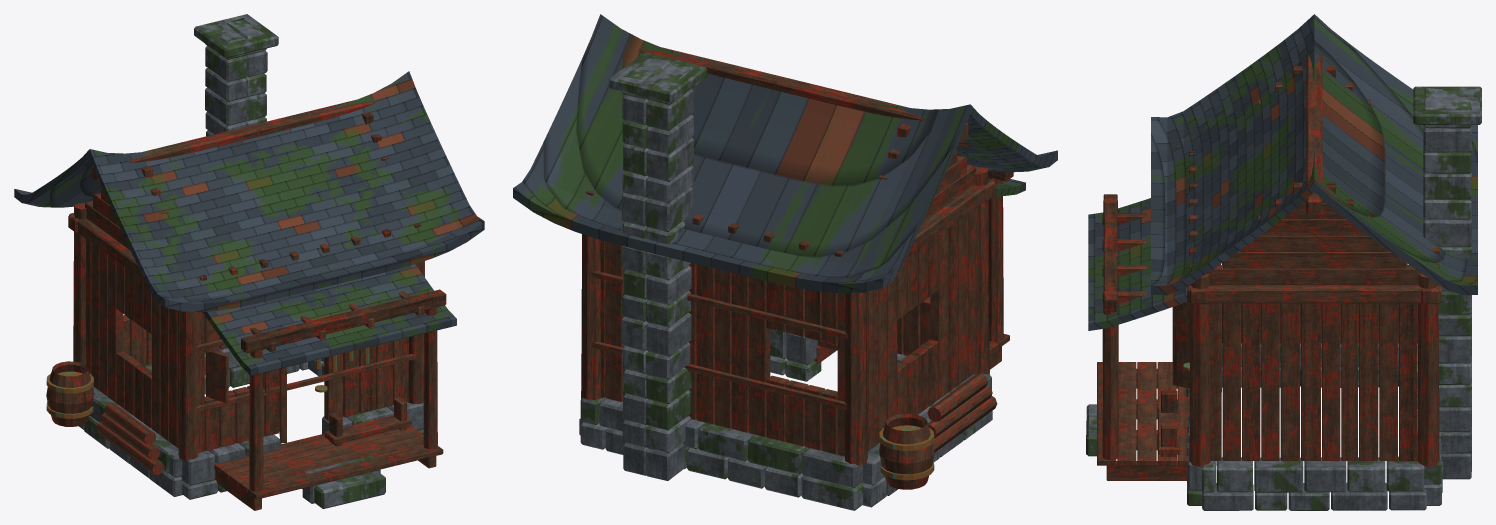
The model's file is Hermit_Hut.glb.
3 renders of one model, left to right at view 1: azimuth 30°, elevation 25°; view 2: azimuth 150°, elevation 25°; view 3: azimuth 270°, elevation 25°, orthographic. The views are drawn at different scales.
Parts seen in each view (by area): view 1: Hermit_Hut__Roof, Hermit_Hut__Timber, Hermit_Hut__Stone, Hermit_Hut__Bronze; view 2: Hermit_Hut__Timber, Hermit_Hut__Roof, Hermit_Hut__Stone, Hermit_Hut__Bronze; view 3: Hermit_Hut__Timber, Hermit_Hut__Roof, Hermit_Hut__Stone.
Boxes of the visible parts, bbox=[...] form: Hermit_Hut__Roof: bbox=[14, 71, 484, 375]; Hermit_Hut__Timber: bbox=[46, 99, 446, 510]; Hermit_Hut__Stone: bbox=[79, 14, 423, 508]; Hermit_Hut__Bronze: bbox=[46, 347, 369, 418]; Hermit_Hut__Timber: bbox=[581, 47, 1013, 489]; Hermit_Hut__Roof: bbox=[513, 14, 1057, 293]; Hermit_Hut__Stone: bbox=[579, 52, 992, 510]; Hermit_Hut__Bronze: bbox=[879, 425, 934, 480]; Hermit_Hut__Timber: bbox=[1097, 53, 1441, 480]; Hermit_Hut__Roof: bbox=[1088, 14, 1477, 330]; Hermit_Hut__Stone: bbox=[1086, 86, 1481, 510].
Bounding box in the file's own units: 20 × 20.34 × 19.62.
Materials: 4 (4 with a texture image).
